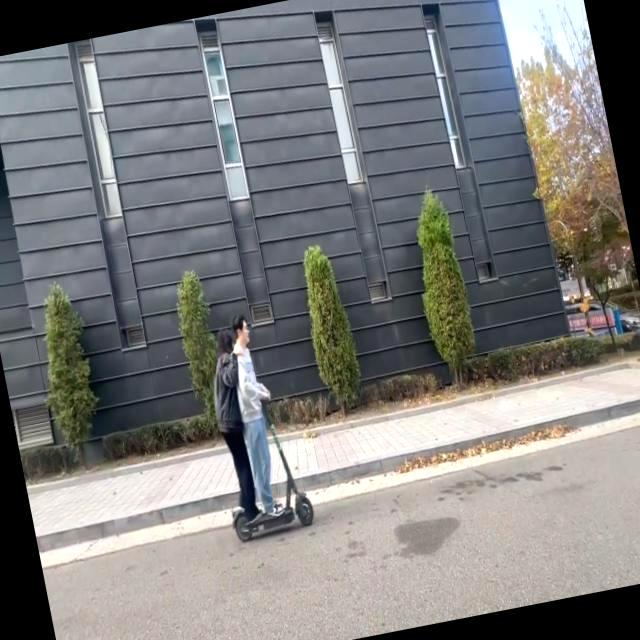bare_head: (232, 315, 257, 347), (207, 327, 234, 356)
human: (229, 316, 284, 517), (207, 330, 261, 520)
kickboard: (229, 486, 313, 548)
